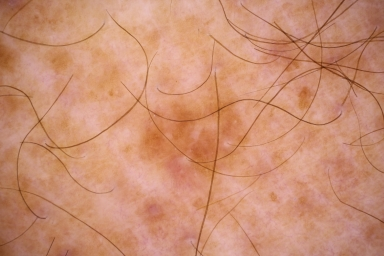nevus: (139, 89, 243, 169)
